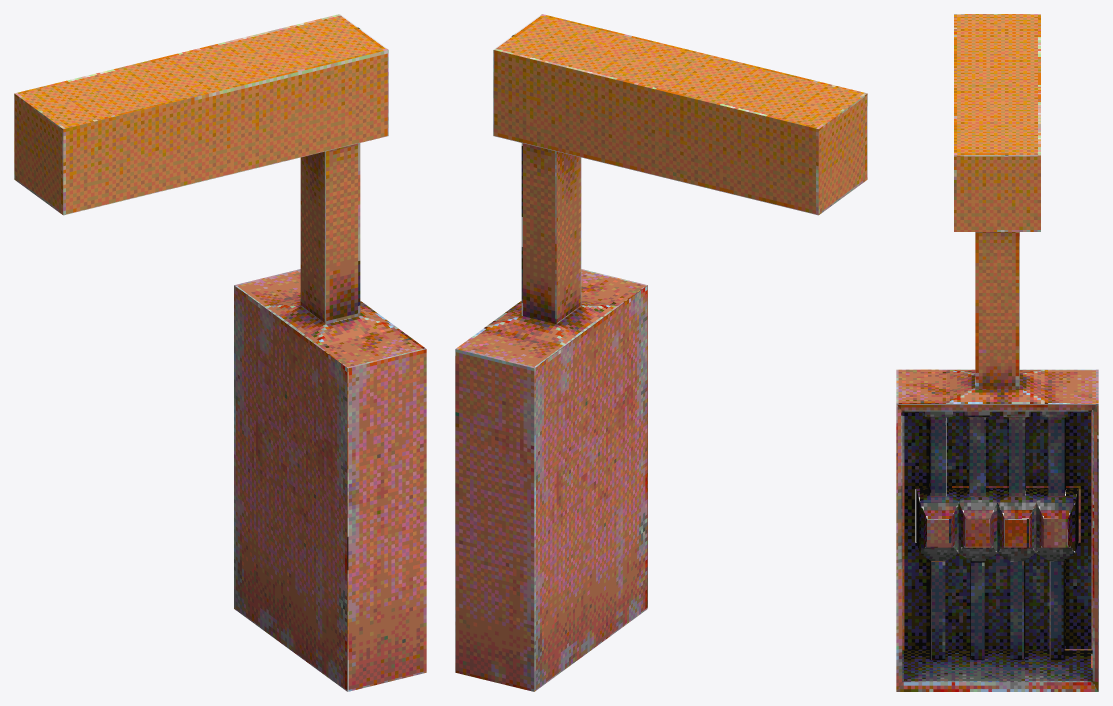
Rendered from Caja_botones.fbx.
The picture shows the model from 3 angles, left to right: view 1: azimuth 30°, elevation 25°; view 2: azimuth 150°, elevation 25°; view 3: azimuth 270°, elevation 25°; orthographic projection. The views are drawn at different scales.
Visible parts, largest first — view 1: pCube5; view 2: pCube5; view 3: pCube5.
Part boxes in pixels (x1,y1,x2,y2): pCube5: (14, 14, 426, 691); pCube5: (455, 14, 867, 691); pCube5: (896, 14, 1098, 691).
Bounding box in the file's own units: 2.71 × 4.7 × 1.61.
